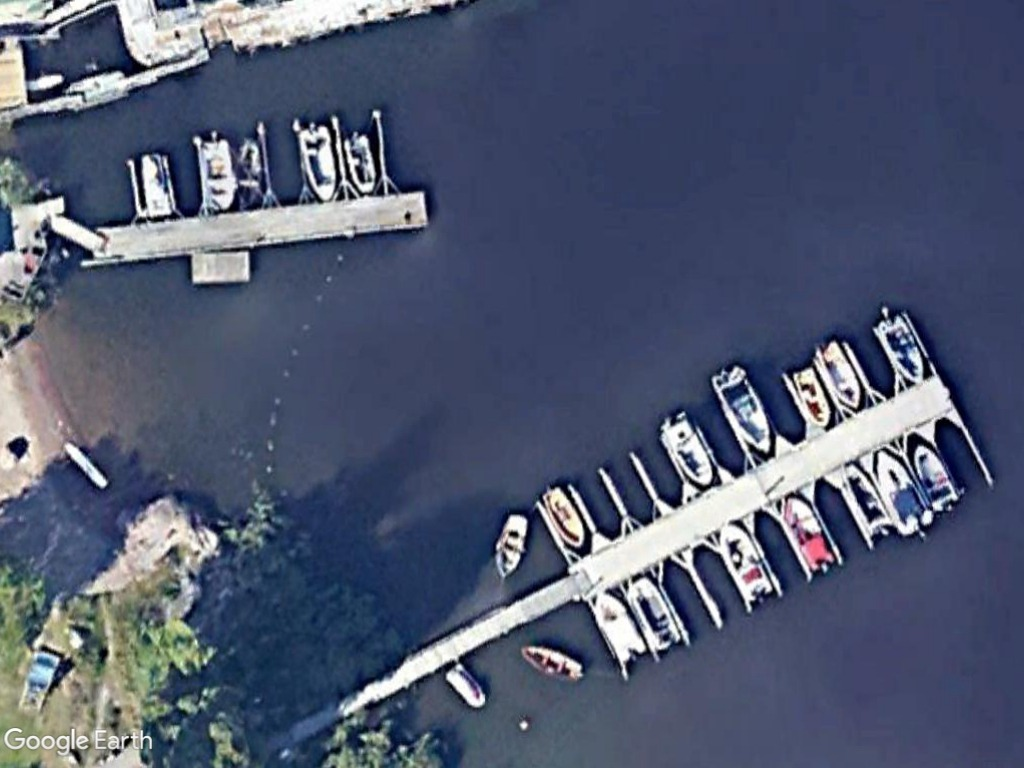boat: (710, 356, 778, 460), (874, 445, 933, 538), (780, 491, 840, 582), (717, 519, 775, 607), (627, 566, 683, 657), (872, 307, 933, 390), (837, 455, 894, 543), (657, 412, 718, 491), (907, 435, 962, 517), (812, 333, 867, 413), (591, 588, 648, 663), (294, 121, 340, 202), (536, 481, 587, 550), (517, 642, 589, 687), (788, 362, 835, 430), (201, 135, 240, 214), (337, 128, 380, 195), (490, 509, 529, 582), (441, 662, 492, 712)
